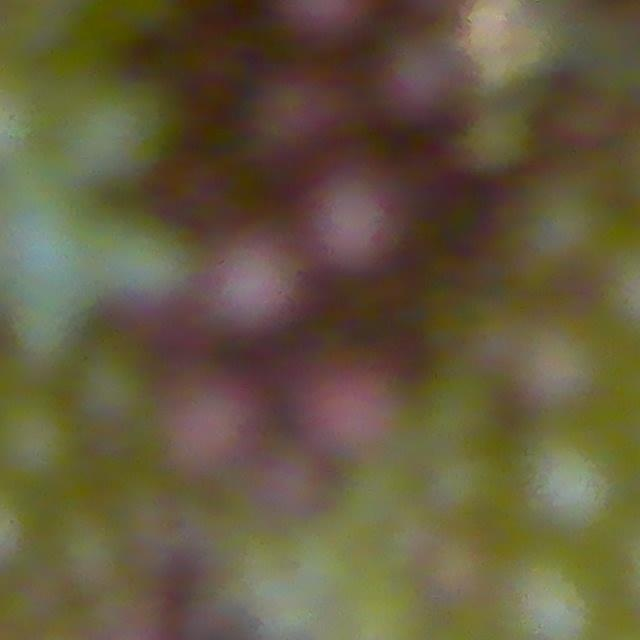SeaGrape: (51, 64, 178, 189), (304, 167, 412, 280), (520, 421, 627, 535), (493, 539, 611, 640), (93, 208, 199, 320), (205, 235, 309, 344), (279, 370, 384, 457), (518, 318, 613, 411), (0, 390, 84, 489), (372, 40, 461, 132), (328, 158, 403, 263), (252, 78, 331, 176), (73, 343, 158, 430), (219, 248, 293, 329), (461, 103, 536, 178)
